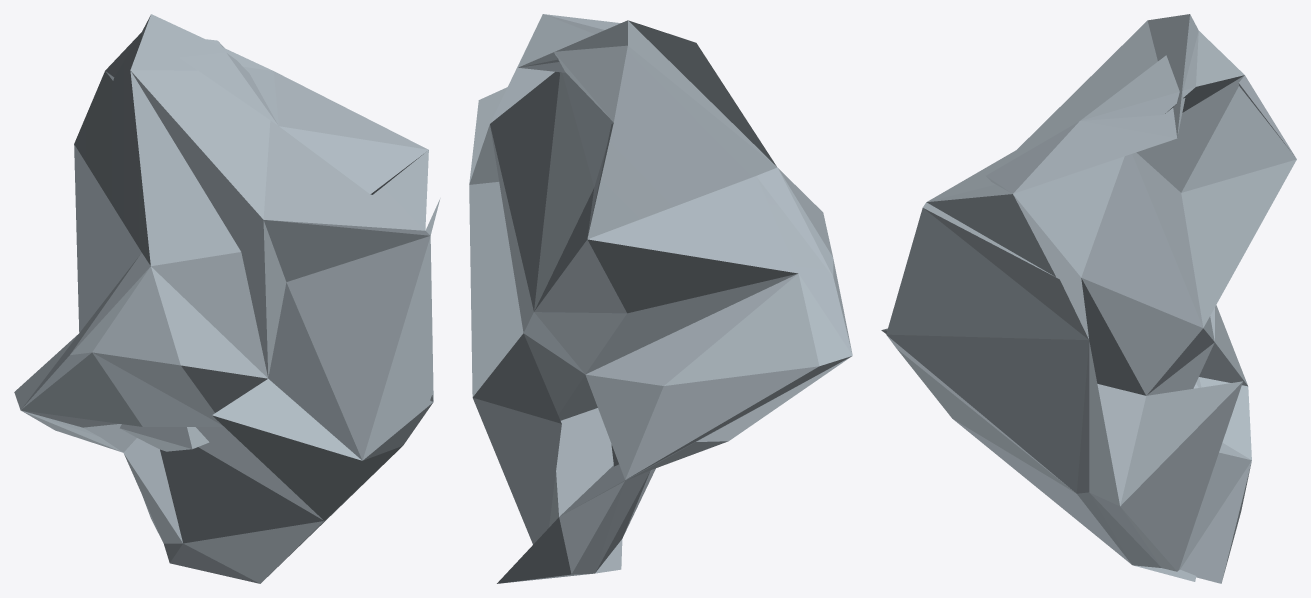
The model's file is waste.fbx.
3 renders of one model, left to right at view 1: azimuth 30°, elevation 25°; view 2: azimuth 150°, elevation 25°; view 3: azimuth 270°, elevation 25°, orthographic. The views are drawn at different scales.
Visible parts, largest first — view 1: waste; view 2: waste; view 3: waste.
Boxes of the visible parts, left/top/right/bottom form: waste: left=14, top=14, right=440, bottom=583; waste: left=469, top=14, right=852, bottom=583; waste: left=881, top=14, right=1296, bottom=583.
Size of the model in its own units: 30.48 by 42.15 by 30.51.
